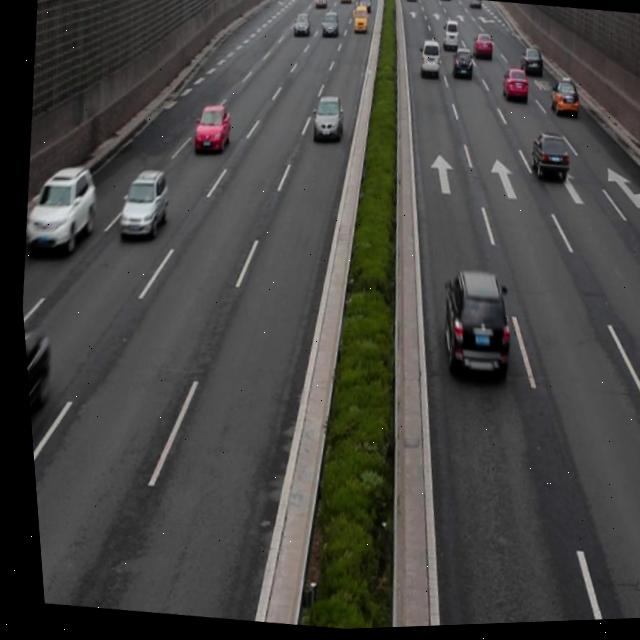car: (428, 267, 512, 382), (15, 156, 100, 258), (111, 165, 171, 242), (19, 325, 52, 459), (187, 101, 233, 158), (523, 132, 568, 189), (306, 94, 343, 145), (545, 79, 580, 124), (495, 70, 528, 110), (636, 201, 640, 272)
